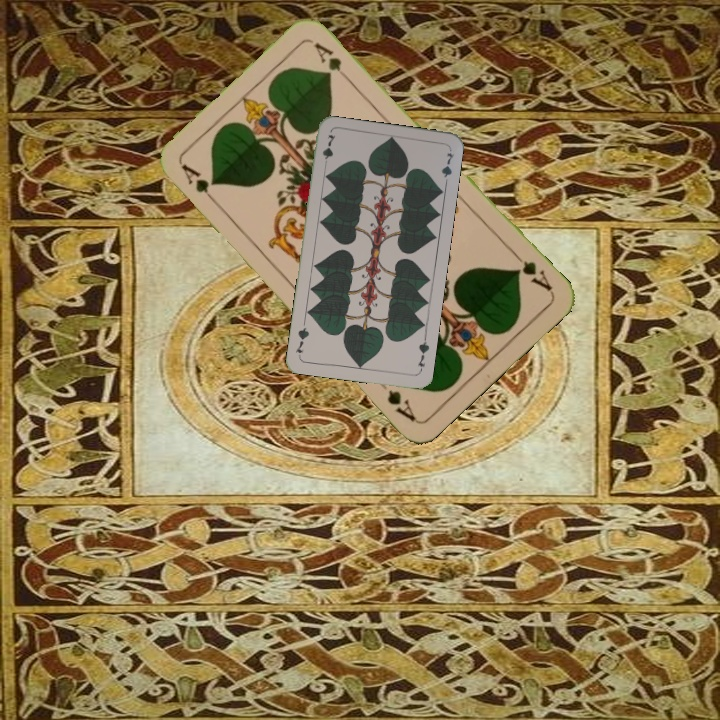G7: (318, 130, 338, 171), (413, 333, 432, 374)
GA: (509, 247, 555, 294), (177, 160, 221, 208)
